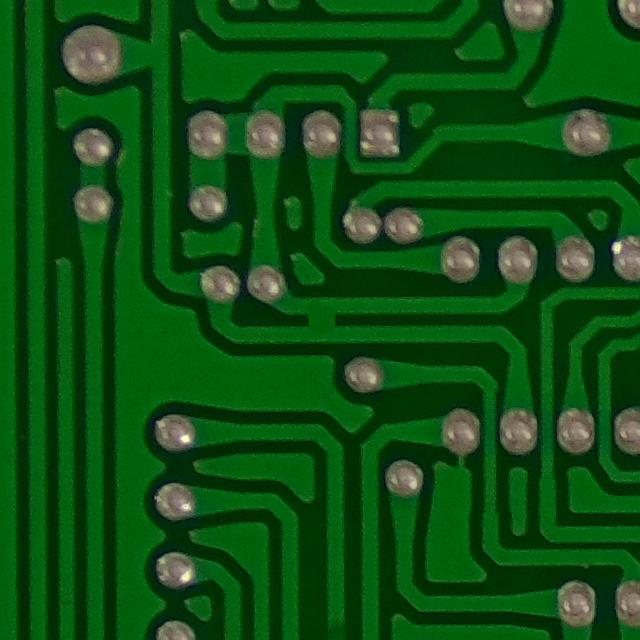short: (290, 293, 350, 348)
